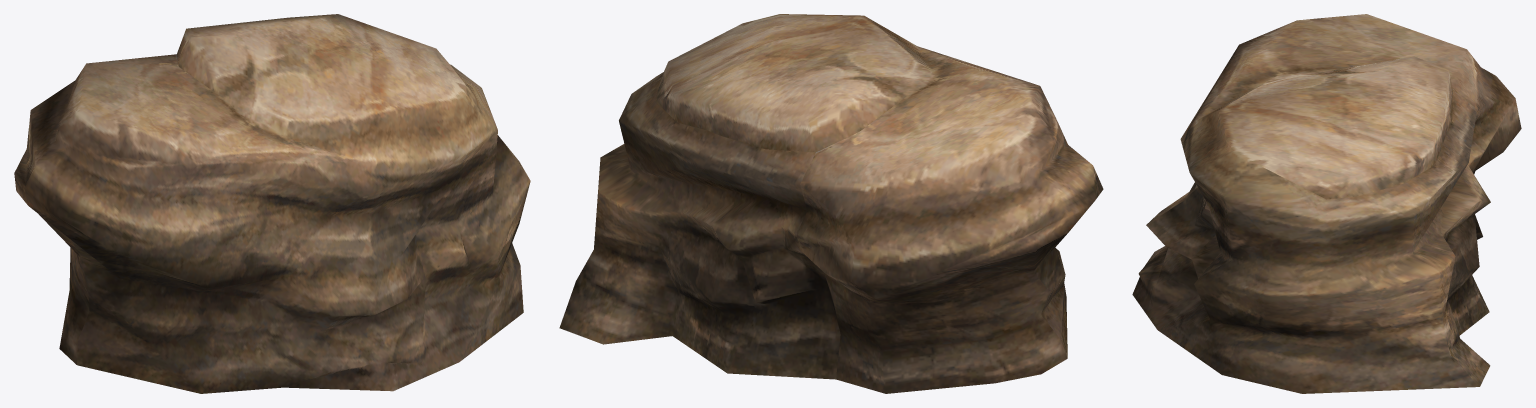
The model's file is SC_tamalagebi_shitou02.FBX.
The picture shows the model from 3 angles, left to right: view 1: azimuth 30°, elevation 25°; view 2: azimuth 150°, elevation 25°; view 3: azimuth 270°, elevation 25°; orthographic projection. The views are drawn at different scales.
Visible parts, largest first — view 1: SC_tamalagebi_shitou02; view 2: SC_tamalagebi_shitou02; view 3: SC_tamalagebi_shitou02.
Boxes of the visible parts, x1,y1,x2,y2 form: SC_tamalagebi_shitou02: (14, 14, 530, 393); SC_tamalagebi_shitou02: (559, 14, 1103, 393); SC_tamalagebi_shitou02: (1132, 14, 1521, 393).
Bounding box in the file's own units: 607 × 323 × 505.
